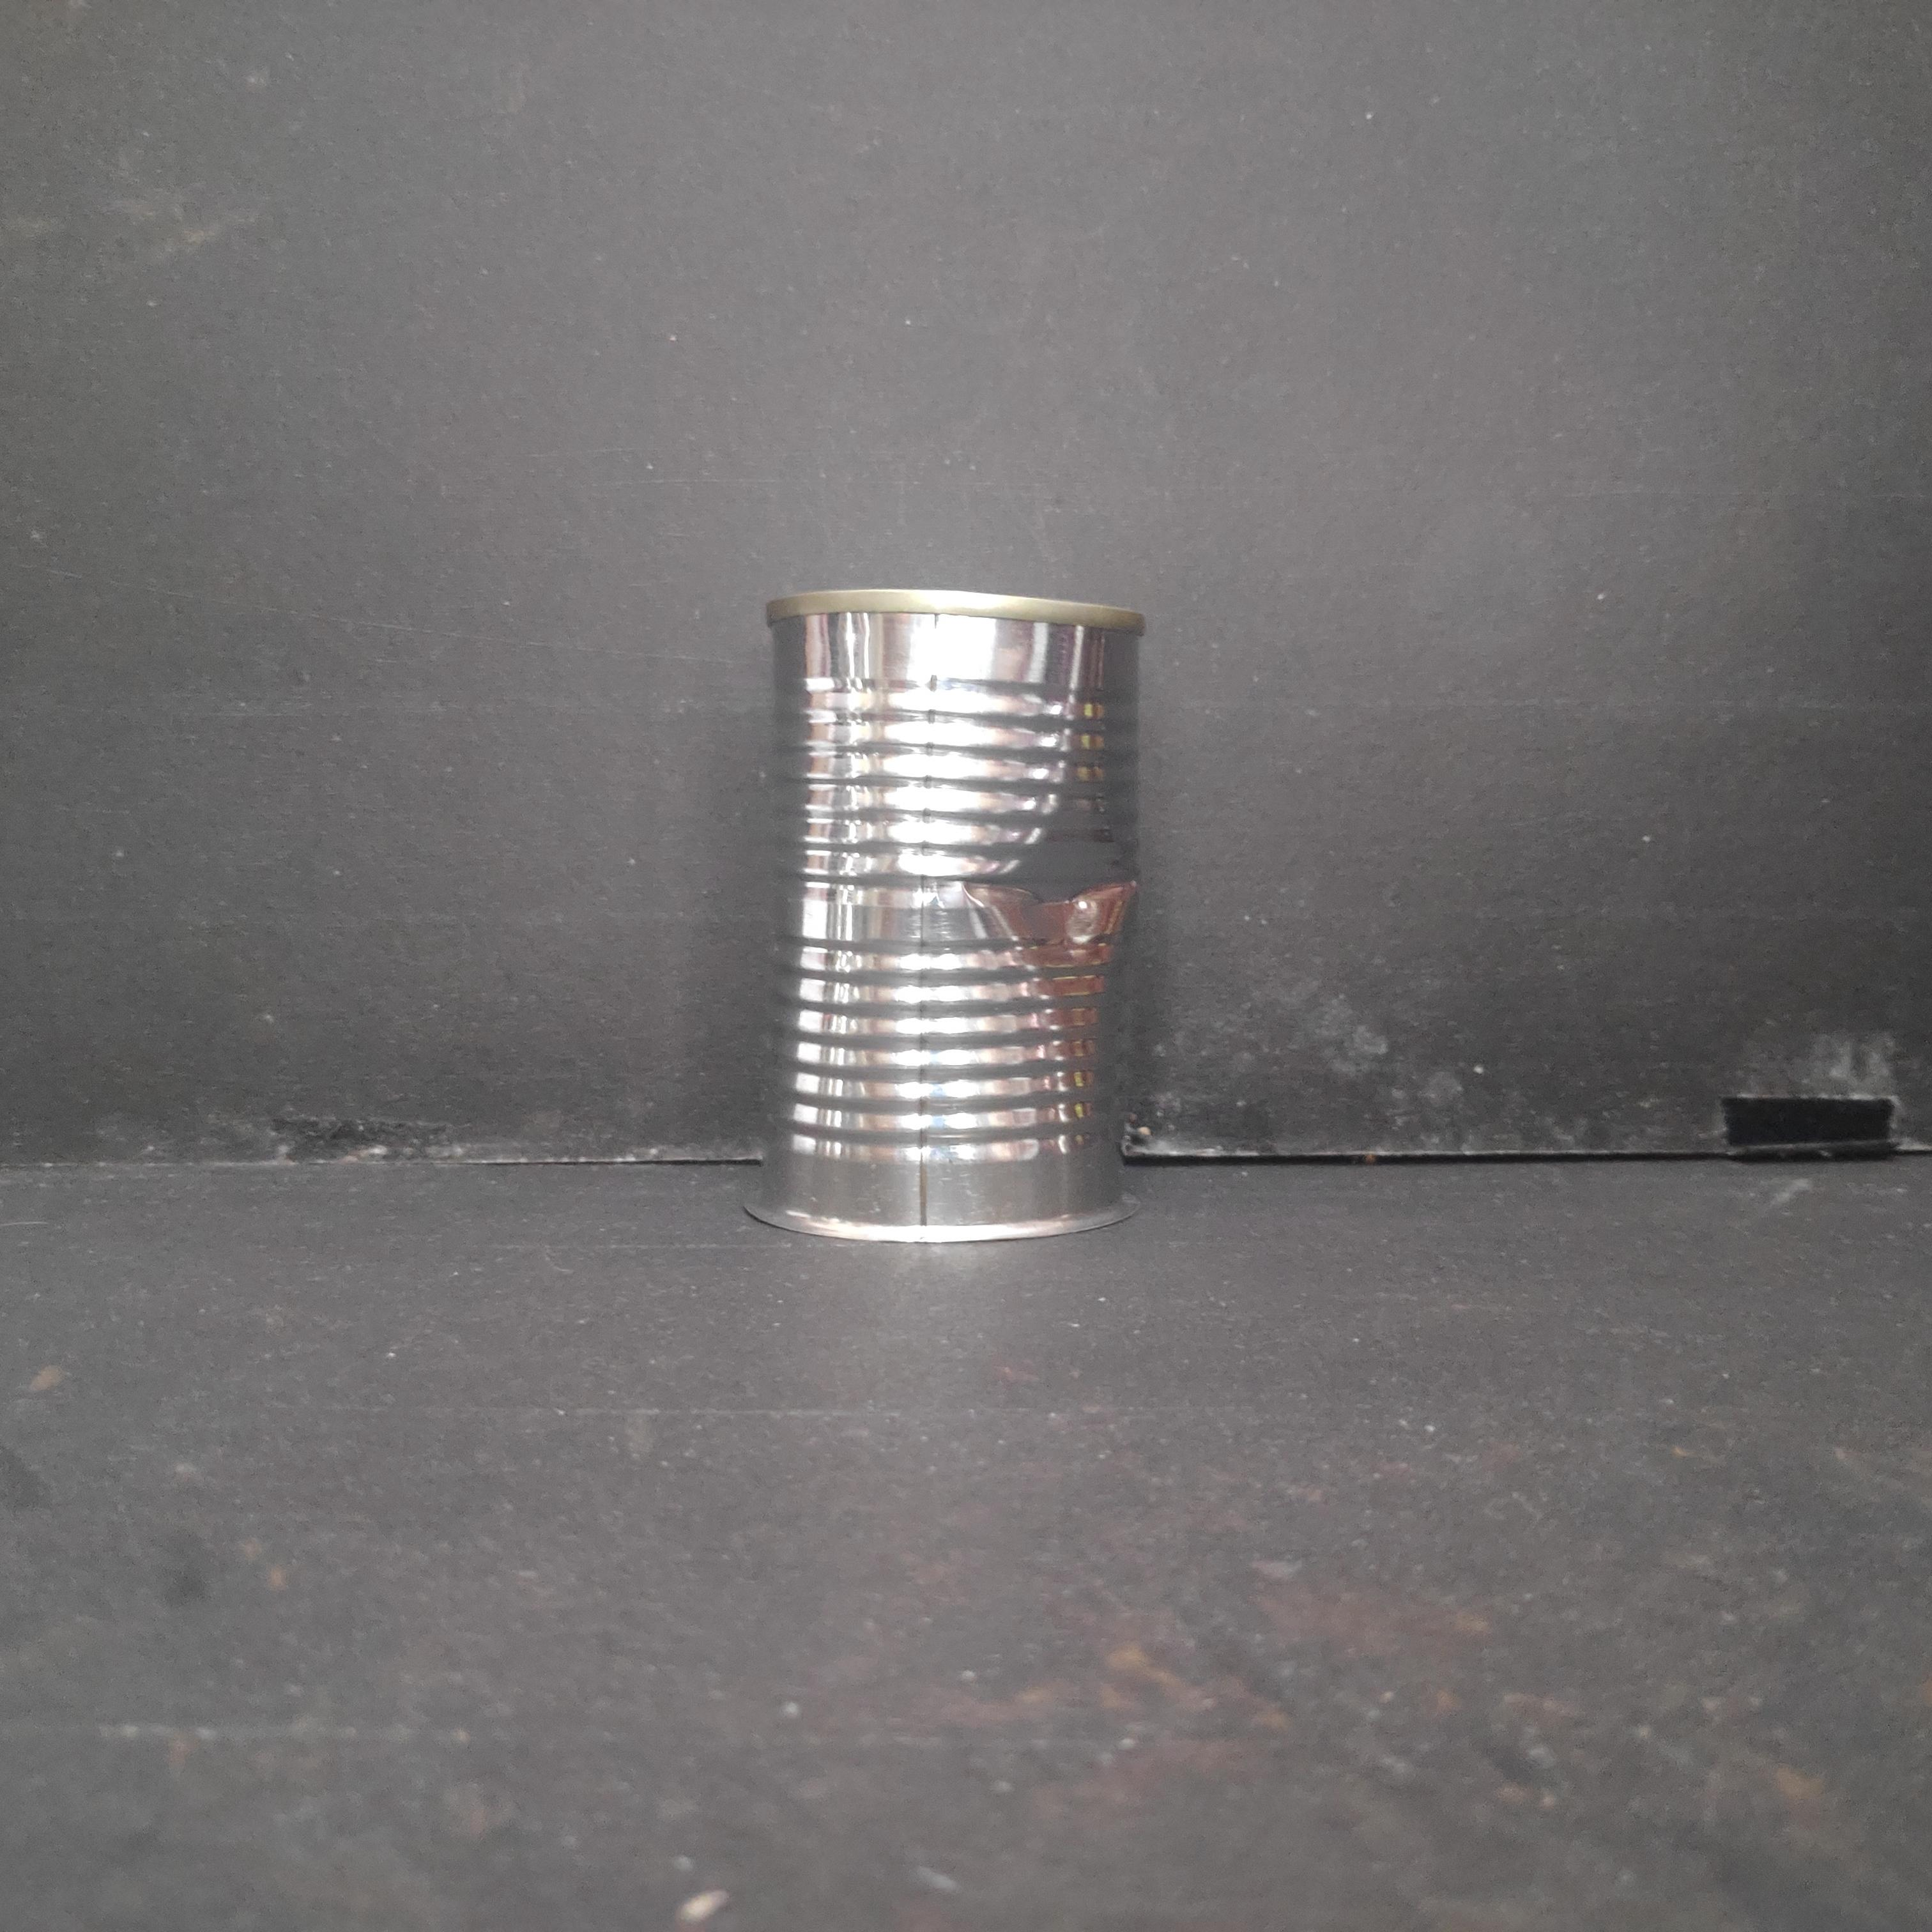Minor Defect: (752, 582, 1154, 1253)
